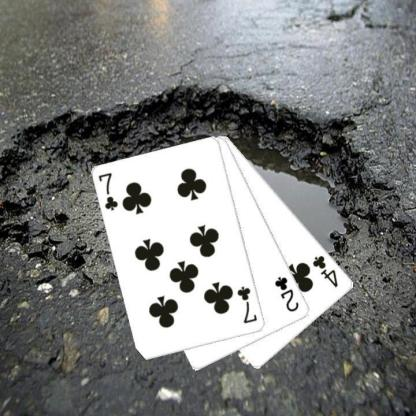2C: (272, 274, 301, 313)
4C: (310, 252, 340, 289)
7C: (96, 170, 120, 212), (234, 284, 259, 324)
